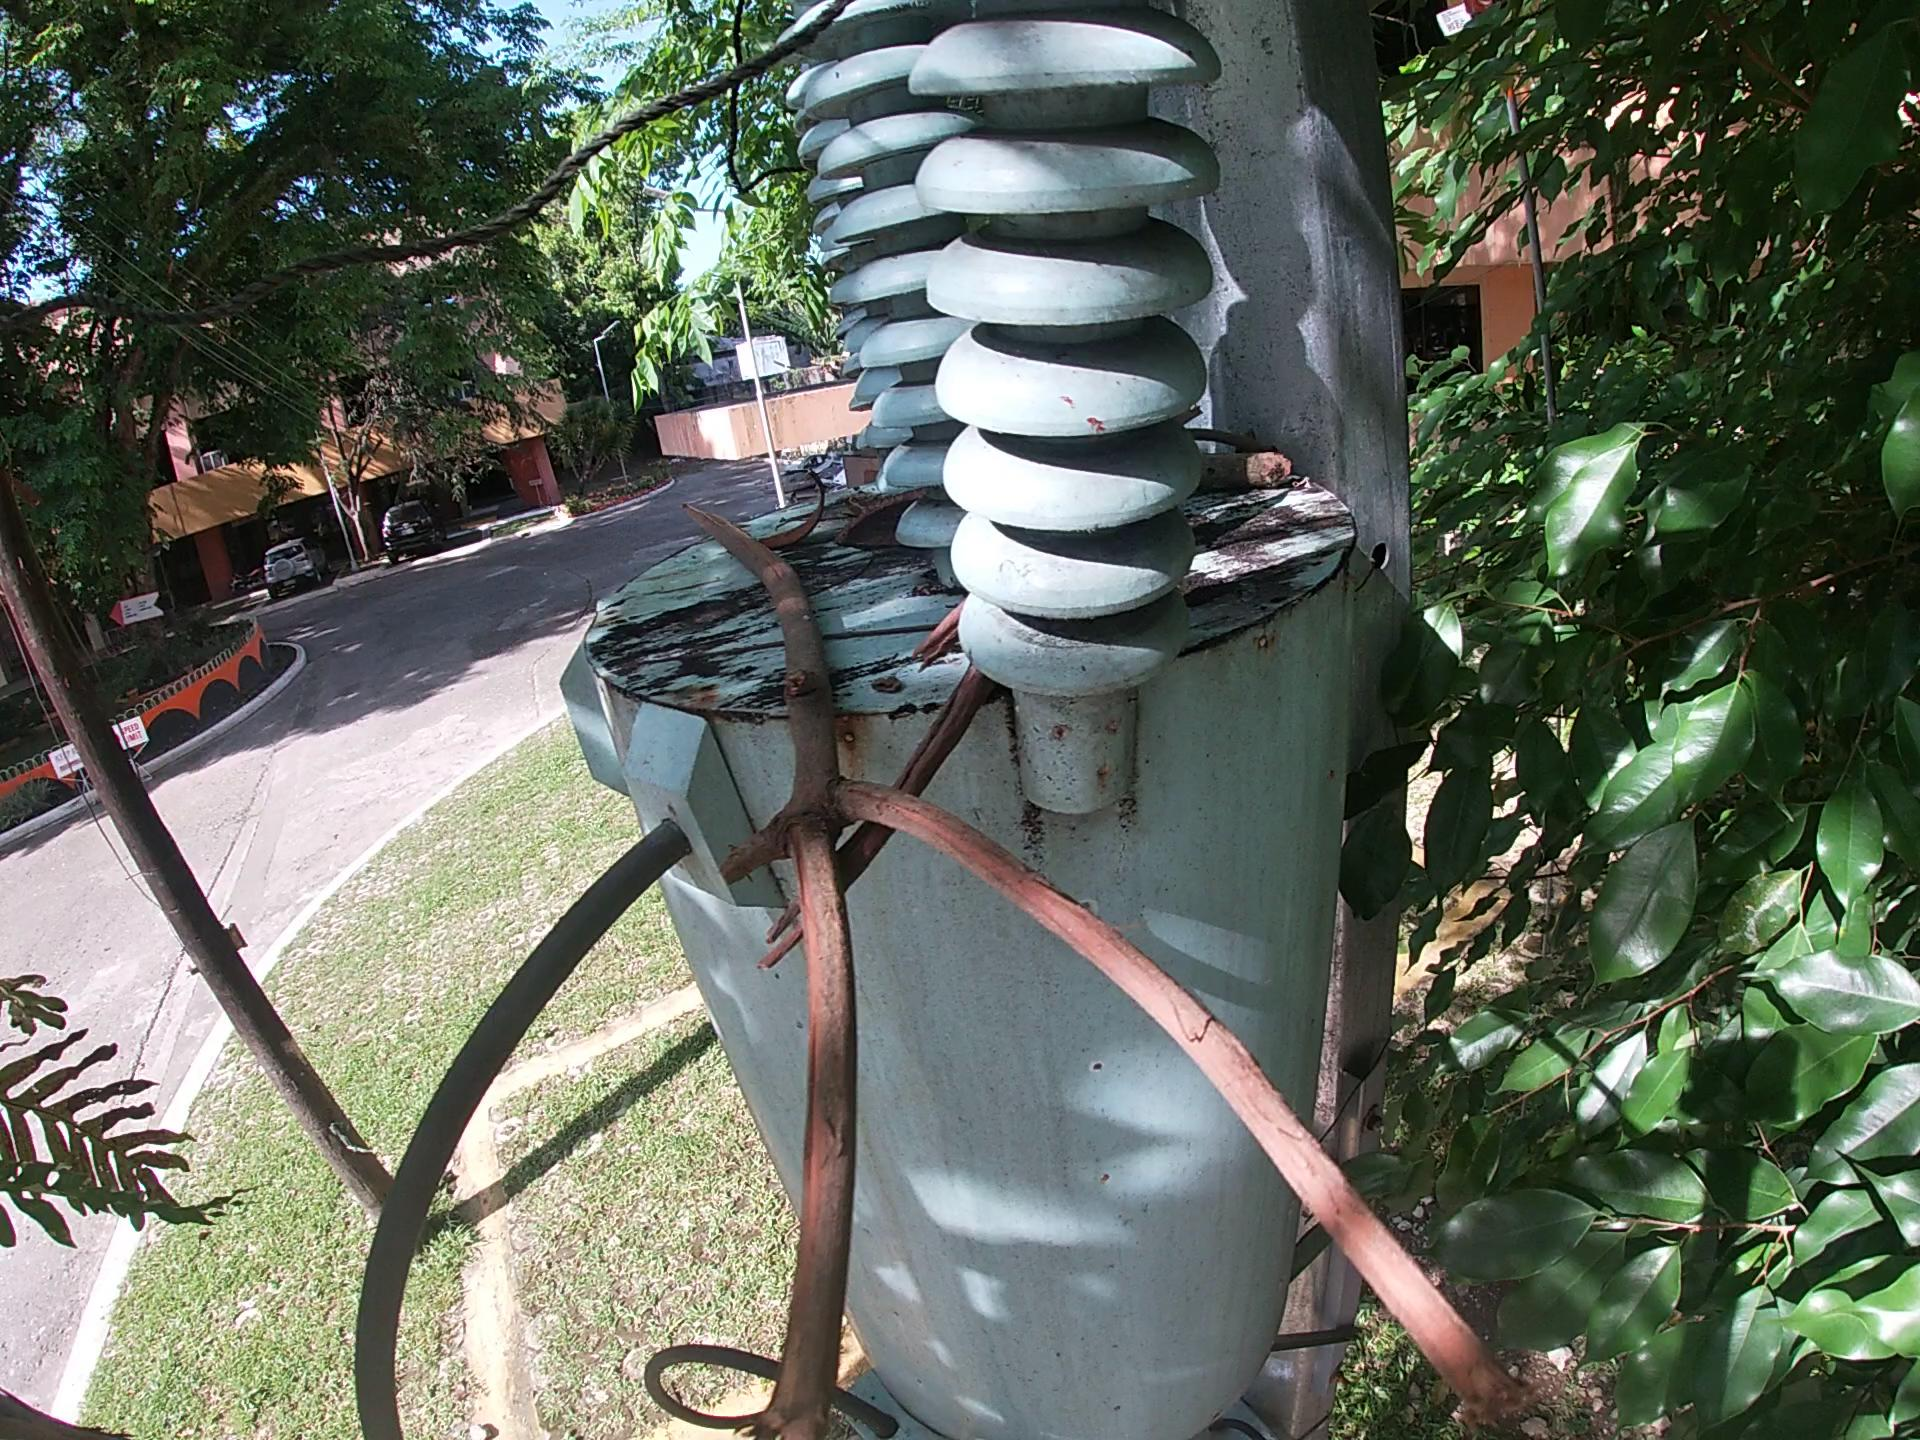mahogany fruit: (847, 496, 930, 569), (756, 469, 828, 537)
tree branch: (679, 498, 1596, 1432), (782, 672, 989, 939), (632, 616, 942, 675), (1197, 448, 1312, 486), (909, 605, 962, 669), (1185, 421, 1279, 451)
